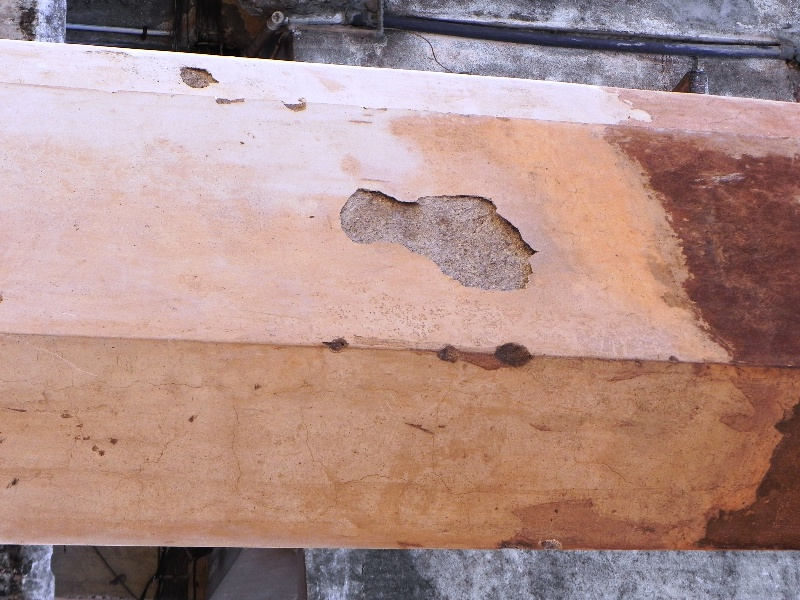Spalling: (331, 165, 548, 301), (424, 335, 547, 376), (174, 54, 222, 95), (324, 325, 357, 364), (273, 93, 314, 120)
